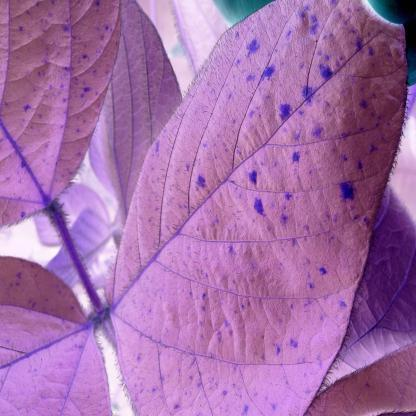Soyabean leaf: (9, 1, 304, 416)
